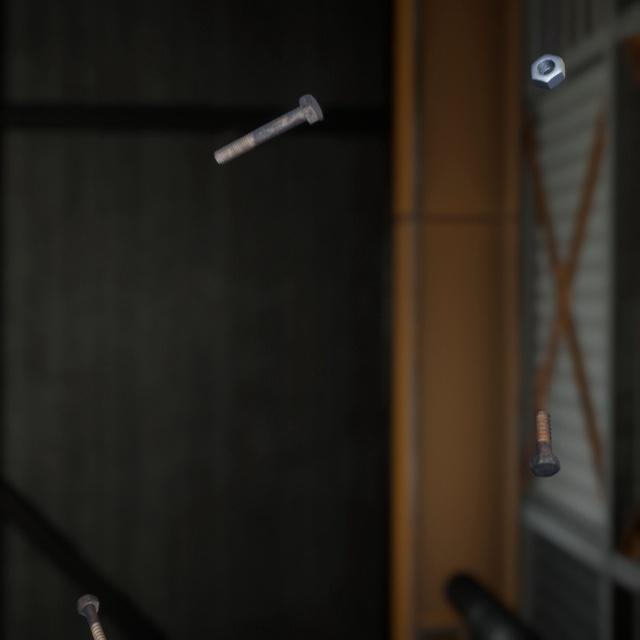bolt: (209, 76, 327, 156), (72, 566, 116, 640), (525, 386, 564, 461)
nut: (526, 39, 569, 83)
